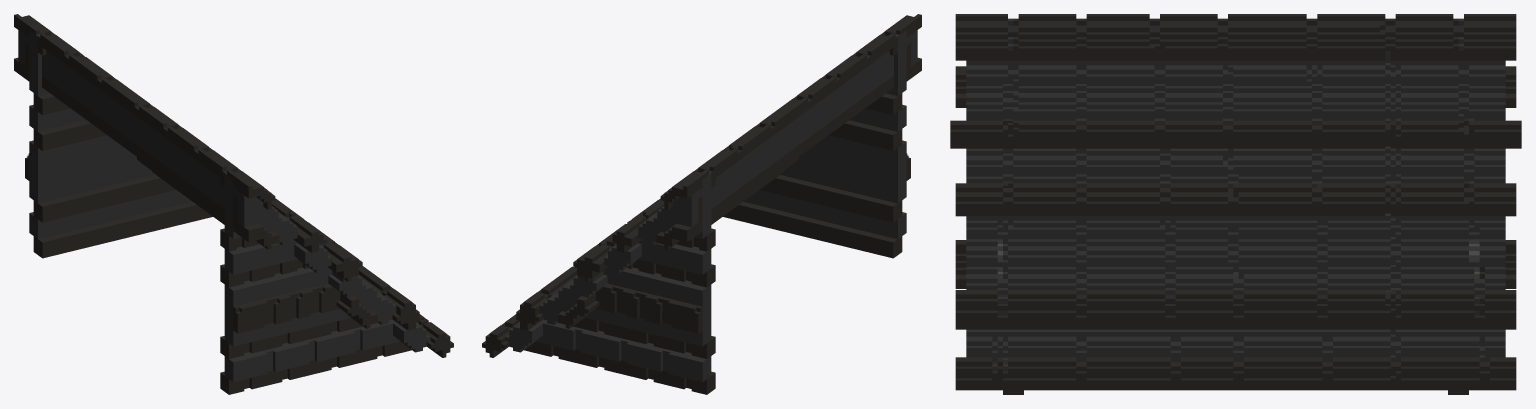
Rendered from RoofHalfFilledStone.obj.
3 renders of one model, left to right at view 1: azimuth 30°, elevation 25°; view 2: azimuth 150°, elevation 25°; view 3: azimuth 270°, elevation 25°, orthographic. The views are drawn at different scales.
Bounding box in the file's own units: 5.4 × 5.6 × 10.9.
Materials: 1 (1 with a texture image).
